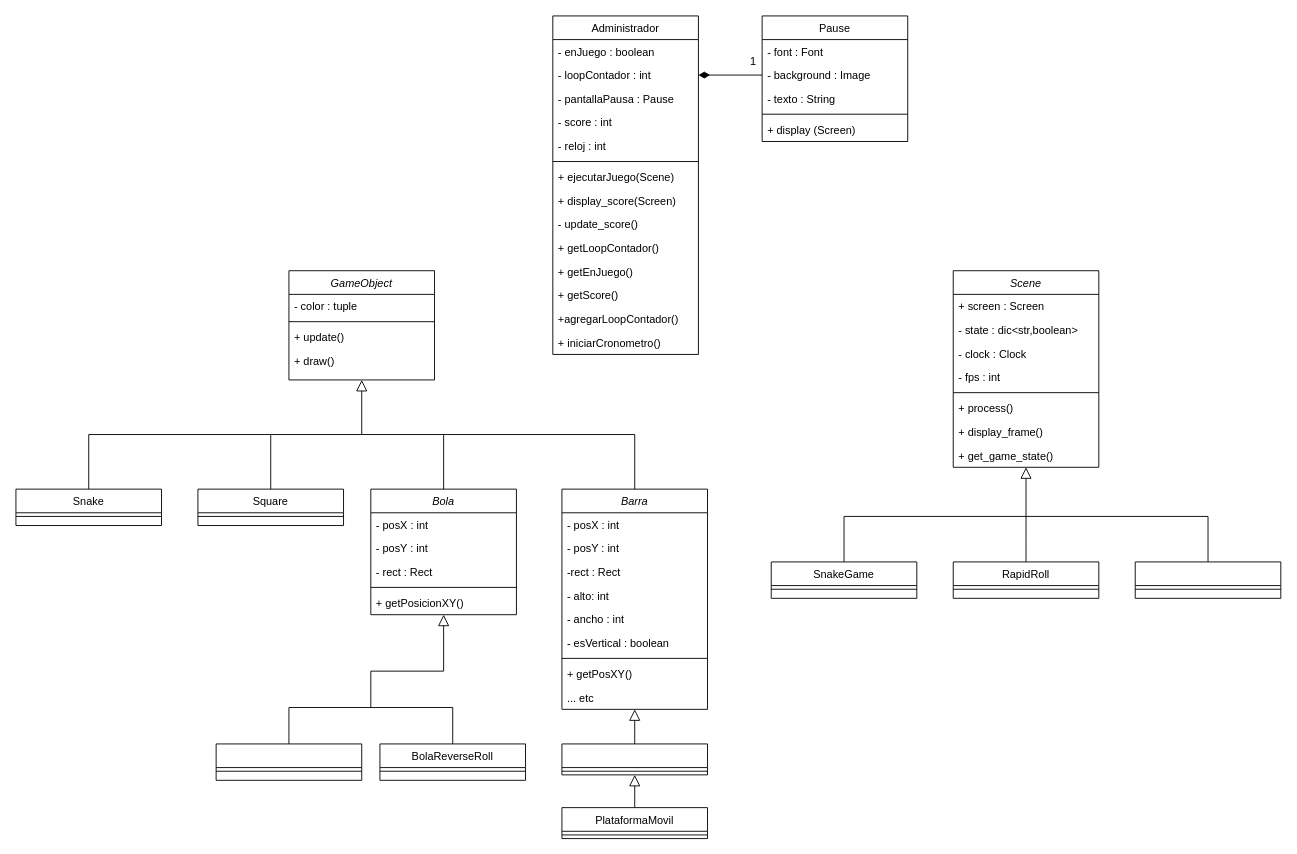
Image size: 1297x854. Some labels were removed from this diagram. The shapes that lost their labels are listed below. From the top down, each one's centre as x and y in pixels, then its label:
point 1207,579: ReverseRoll
point 288,761: BolaRapidRoll
point 634,759: Plataforma
